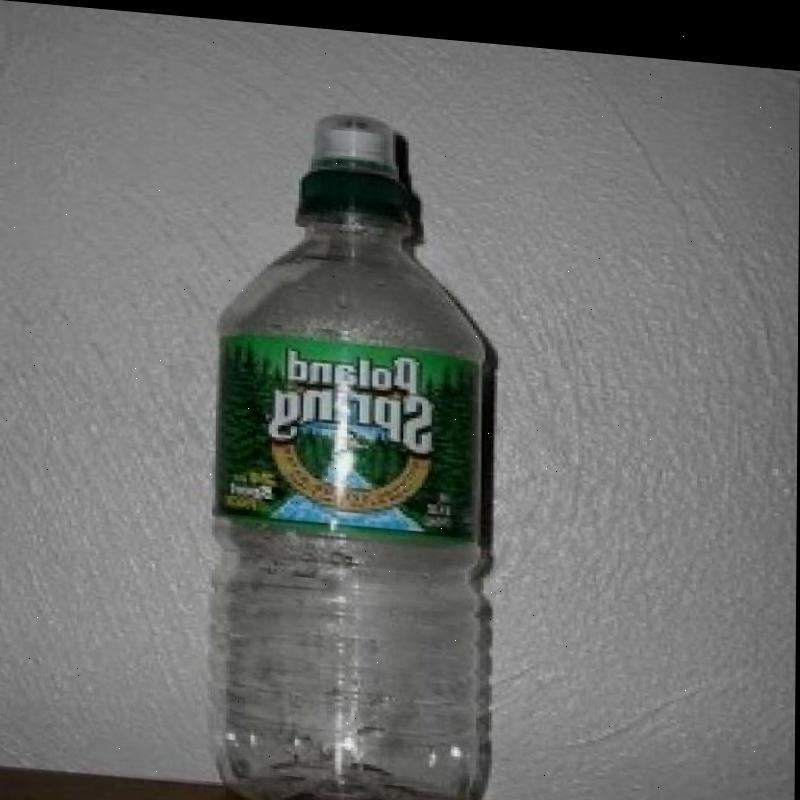botella: (212, 99, 489, 800)
